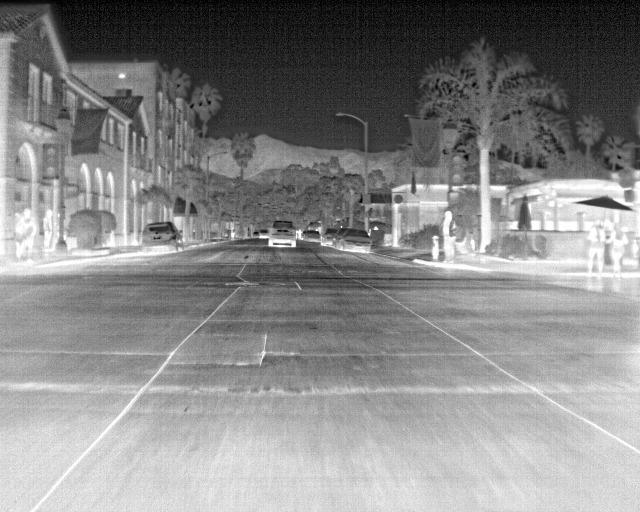bicycle: (137, 220, 180, 255), (341, 227, 371, 253), (268, 228, 298, 250), (321, 226, 339, 248), (335, 226, 350, 249), (302, 228, 322, 242)
empty: (438, 208, 460, 263), (586, 220, 607, 272), (606, 226, 627, 271), (18, 207, 34, 253), (40, 208, 56, 251)
